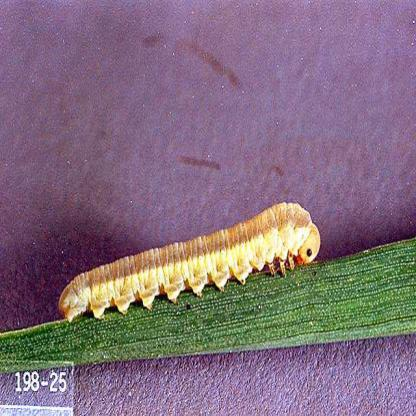sawfly: (55, 198, 329, 330)
